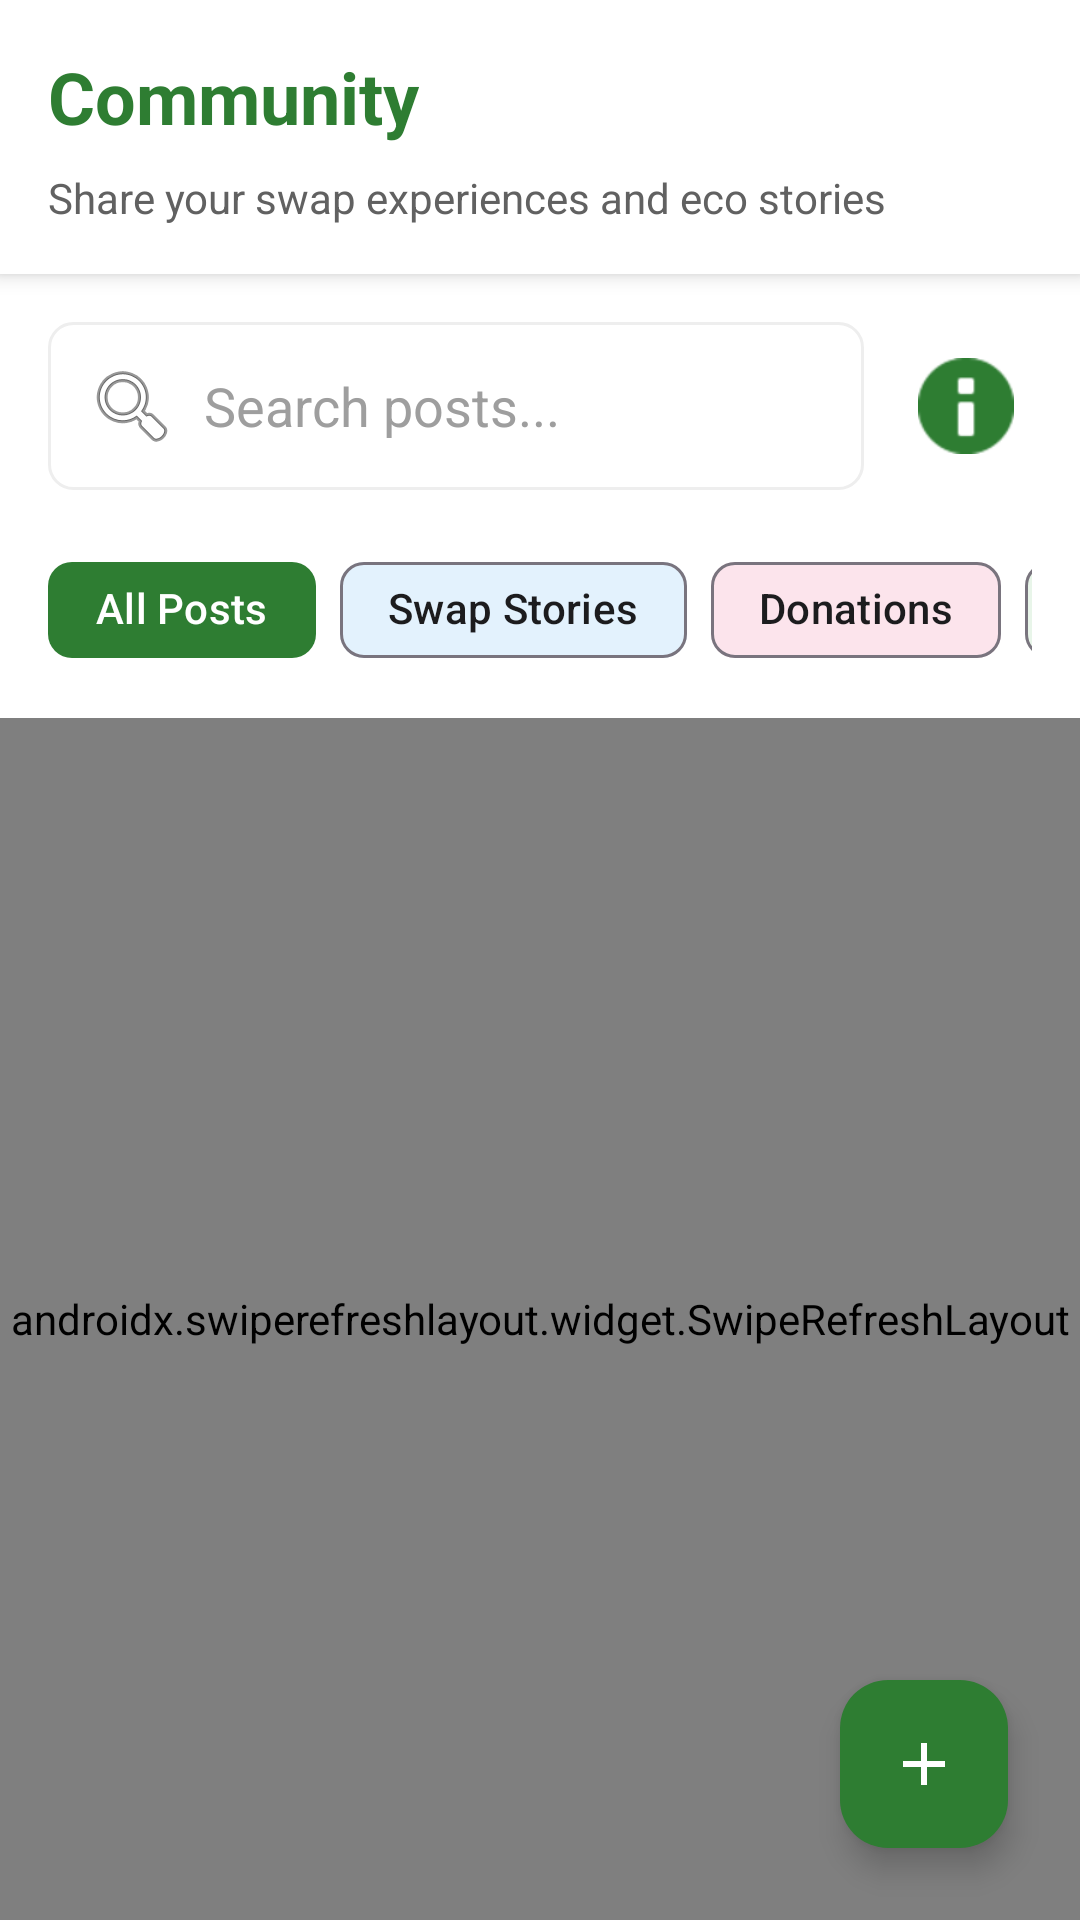

Icon bounding boxes for this 1080 × 1920 phone screenshot, format [x1,y1,x2,y2]:
Create Post: [840,1680,1008,1848]
